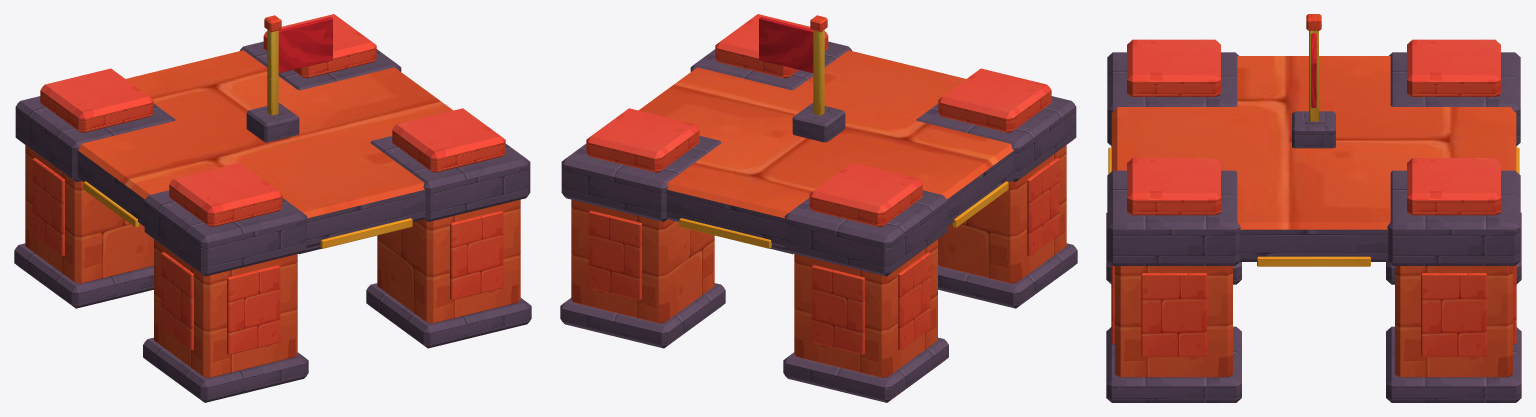
The model's file is enemy-base.glb.
3 renders of one model, left to right at view 1: azimuth 30°, elevation 25°; view 2: azimuth 150°, elevation 25°; view 3: azimuth 270°, elevation 25°, orthographic. The views are drawn at different scales.
Visible parts, largest first — view 1: enemy-base; view 2: enemy-base; view 3: enemy-base.
Part boxes in pixels (bbox=[...]): enemy-base: bbox=[14, 14, 531, 402]; enemy-base: bbox=[560, 14, 1077, 402]; enemy-base: bbox=[1106, 14, 1521, 402].
Size of the model in its own units: 1.9 by 1.52 by 1.9.
1 material, 1 textured.
